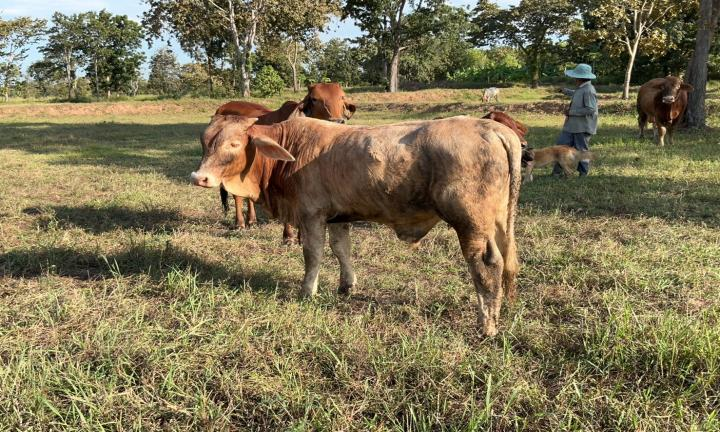Charolais: (192, 115, 522, 335)
